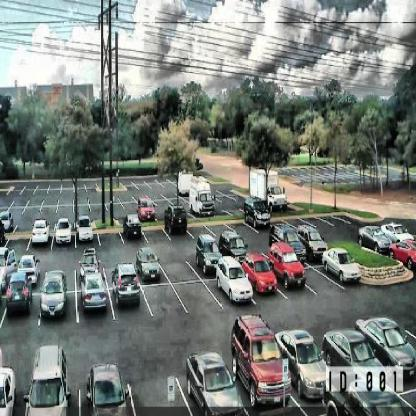free: (136, 357, 179, 415), (183, 282, 210, 326), (153, 285, 177, 325), (167, 249, 186, 279), (311, 268, 326, 298), (100, 226, 118, 249), (11, 227, 29, 247), (208, 216, 224, 238), (52, 256, 70, 275), (189, 216, 205, 237), (146, 225, 162, 244), (235, 216, 249, 235)
occupied: (186, 343, 232, 415), (241, 322, 279, 403), (27, 350, 70, 416), (374, 314, 413, 378), (86, 364, 130, 415), (290, 333, 323, 395), (326, 330, 365, 378), (40, 270, 66, 319), (327, 240, 359, 279), (219, 261, 249, 301), (111, 259, 139, 300), (280, 248, 304, 290), (302, 213, 324, 255), (249, 253, 272, 293), (6, 277, 31, 313), (82, 277, 106, 312), (245, 194, 269, 227), (165, 202, 187, 238), (197, 235, 216, 276), (273, 215, 297, 247), (140, 248, 164, 278), (29, 214, 49, 247), (80, 245, 100, 274), (223, 227, 242, 256), (76, 212, 93, 242), (124, 218, 143, 242), (55, 218, 70, 248), (20, 250, 36, 276)
